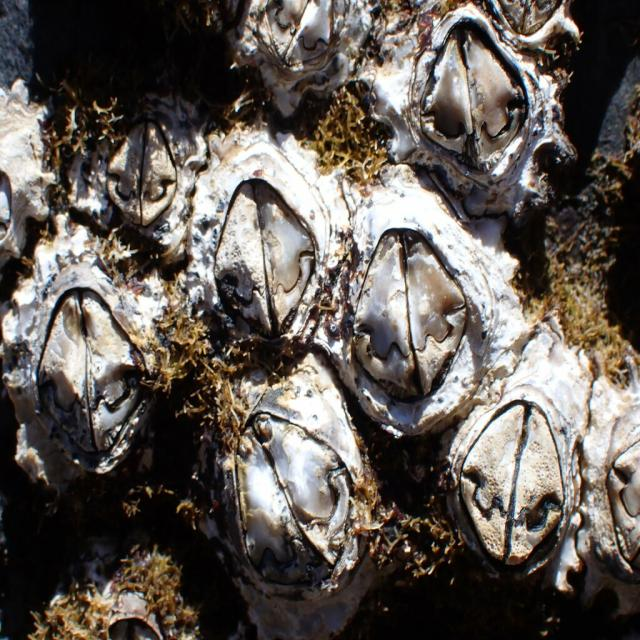barnacles: (182, 352, 382, 620), (326, 171, 502, 428), (0, 255, 167, 523), (377, 12, 574, 218), (454, 338, 587, 599), (199, 146, 337, 361), (76, 79, 191, 233), (214, 0, 374, 108)
